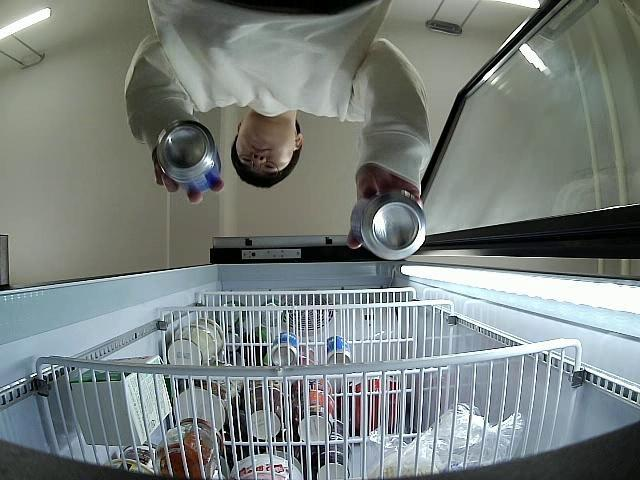13_pocariSweat: (154, 120, 222, 198), (350, 197, 427, 262)
